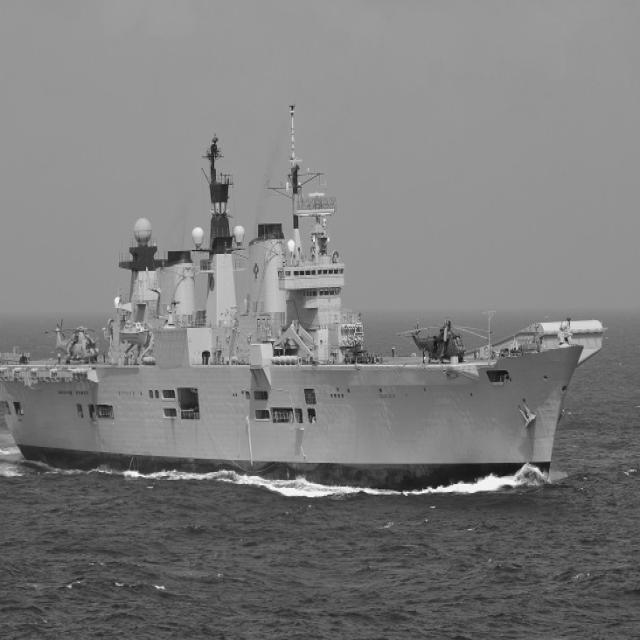Portanaves: (1, 95, 610, 487)
